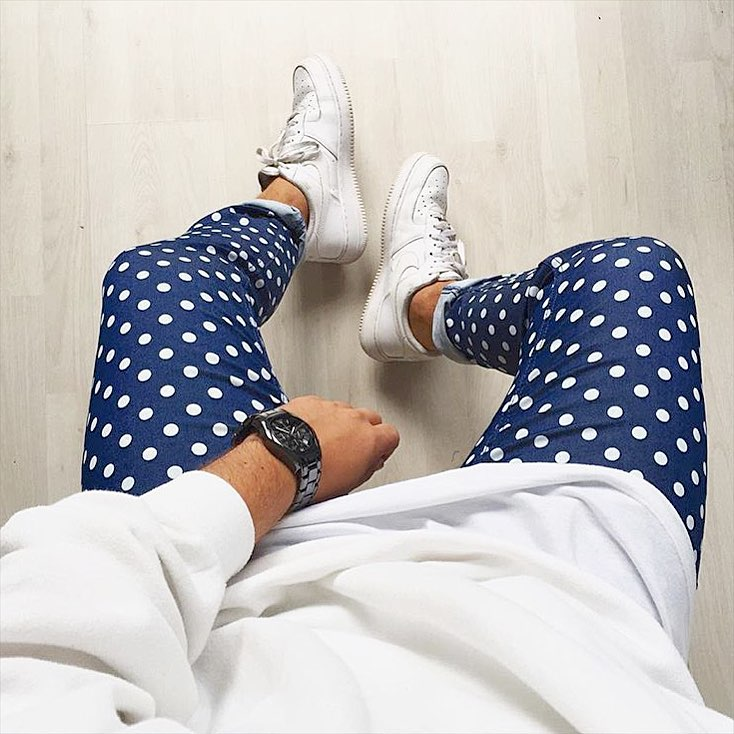sneaker: (346, 140, 486, 381), (243, 46, 379, 272)
